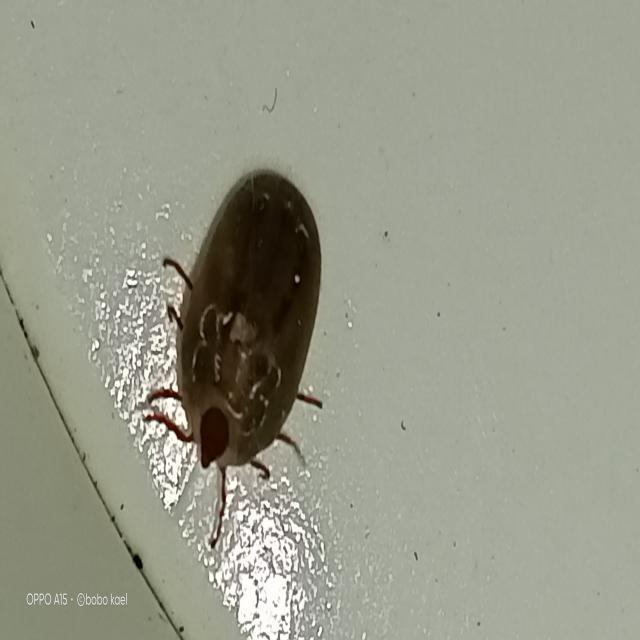Rhipicephalus Sanguineus-F-Fed: (141, 169, 322, 552)
